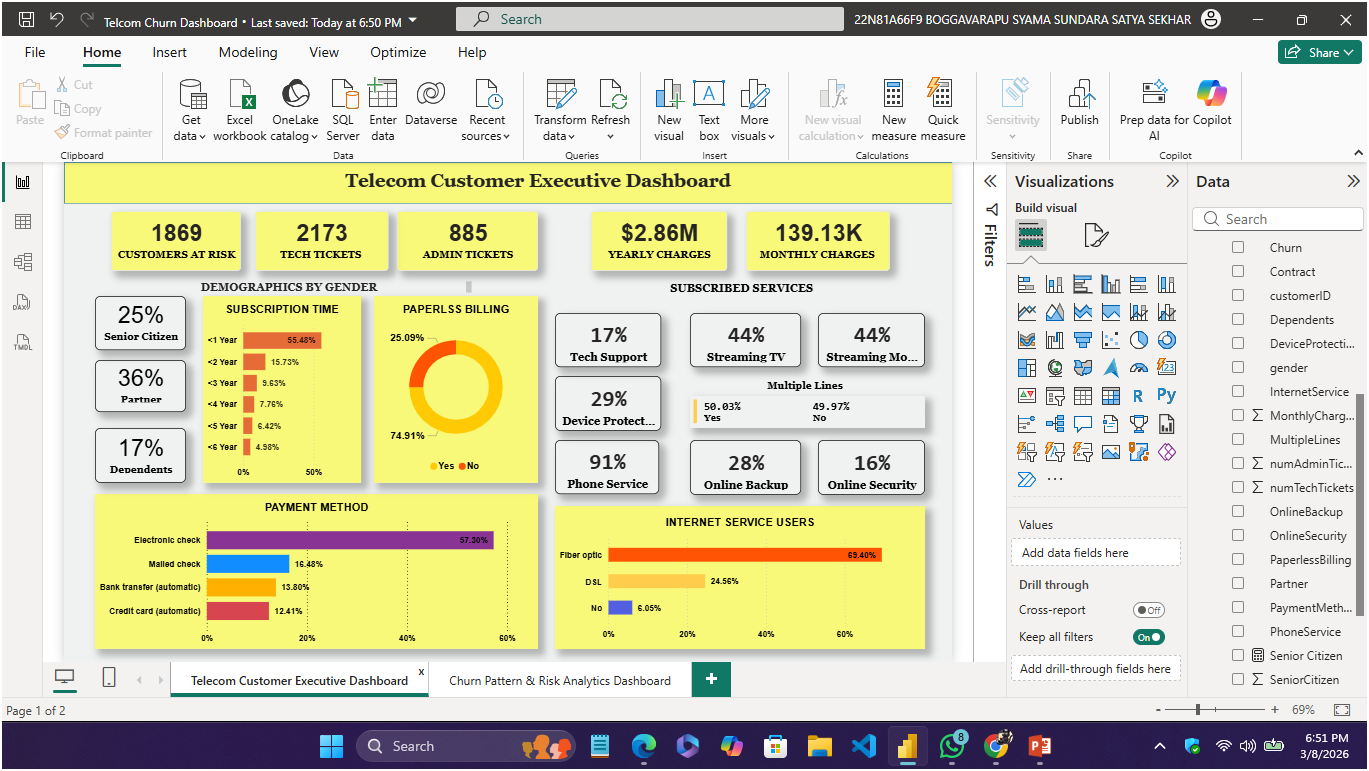

The dashboard page shown, as its layout file describes it:
{"tool":"powerbi","page":{"name":"Telecom Customer Executive Dashboard","canvas":[1280,720],"ordinal":0},"visuals":[{"type":"shape","box":[0,0,1280.2,60.5],"z":0},{"type":"card","fields":{"Values":["Churn.% Tech Support"]},"box":[707,217.4,152.6,77.8],"z":1000},{"type":"textbox","box":[707,157,522.7,47.5],"z":2000,"group":"g1"},{"type":"card","fields":{"Values":["Churn.% Streaming TV"]},"box":[901.4,217.4,159.8,77.8],"z":2000},{"type":"card","fields":{"Values":["CountNonNull(01 Churn-Dataset.customerID)"]},"box":[67.7,70.6,187.2,86.4],"z":3000},{"type":"textbox","box":[49,157,542.9,36],"z":4000},{"type":"card","fields":{"Values":["Churn.% Streaming Movies"]},"box":[1085.8,217.4,154.1,77.8],"z":6000},{"type":"card","fields":{"Values":["Churn.% of Senior Citizen"]},"box":[44.6,193,131,77.8],"z":7000},{"type":"card","fields":{"Values":["Churn.% Device Protection"]},"box":[707,308.2,152.6,79.2],"z":8000},{"type":"card","fields":{"Values":["Churn.% Phone Service"]},"box":[707,400.3,149.8,77.8],"z":9000},{"type":"card","fields":{"Values":["Sum(01 Churn-Dataset.numTechTickets)"]},"box":[275,70.6,191.5,86.4],"z":10000},{"type":"card","fields":{"Values":["Churn.% of partner"]},"box":[44.6,285.1,131,74.9],"z":11000},{"type":"card","fields":{"Values":["Churn.% Online Backup"]},"box":[901.4,400.3,159.8,79.2],"z":12000},{"type":"clusteredBarChart","title":"PAYMENT METHOD","fields":{"Y":["CountNonNull(Churn.PaymentMethod)"],"Category":["Churn.PaymentMethod"]},"box":[44.6,478.1,637.9,223.2],"z":13000},{"type":"card","fields":{"Values":["Churn.% Online Sec"]},"box":[1085.8,400.3,154.1,79.2],"z":14000},{"type":"card","fields":{"Values":["Sum(01 Churn-Dataset.TotalCharges)"]},"box":[758.9,70.6,195.8,86.4],"z":15000},{"type":"card","fields":{"Values":["Churn.% of Dependents"]},"box":[44.6,383,131,79.2],"z":16000},{"type":"card","fields":{"Values":["Sum(01 Churn-Dataset.numAdminTickets)"]},"box":[479.5,70.6,203,86.4],"z":17000},{"type":"clusteredBarChart","title":"SUBSCRIPTION TIME","fields":{"Y":["CountNonNull(Churn.Churn)"],"Category":["Churn.Tenure(in years)"]},"box":[200.2,193,227.5,269.3],"z":18000},{"type":"card","fields":{"Values":["Sum(01 Churn-Dataset.MonthlyCharges)"]},"box":[982.1,70.6,207.4,86.4],"z":19000},{"type":"donutChart","title":"PAPERLSS BILLING","fields":{"Category":["Churn.PaperlessBilling"],"Y":["CountNonNull(Churn.PaperlessBilling)"]},"box":[446.4,193,236.2,269.3],"z":20000},{"type":"group","id":"g1","title":"Group 2","box":[707,157,522.7,47.5],"z":23000},{"type":"textbox","box":[982.1,308.2,169.9,28.8],"z":25000},{"type":"multiRowCard","fields":{"Values":["Churn.% Yes-Multiple Lines","Churn.% No-Multiple Lines"]},"box":[901.4,337,338.4,46.1],"z":26000},{"type":"barChart","title":"INTERNET SERVICE USERS","fields":{"Y":["CountNonNull(Churn.InternetService)"],"Category":["Churn.InternetService"]},"box":[707,495.4,532.8,205.9],"z":27000},{"type":"textbox","box":[352.8,7.2,659.5,44.6],"z":28000}]}

Visuals, with their boxes on the page's 1280x720 design canvas (x1, y1, x2, y2). These are canvas units, not pixel positions in the 1369x771 screenshot, which may show the page scaled, cropped or inside an application window:
shape: {"x1": 0, "y1": 0, "x2": 1280, "y2": 60}
card - Churn.% Tech Support: {"x1": 707, "y1": 217, "x2": 860, "y2": 295}
textbox: {"x1": 707, "y1": 157, "x2": 1230, "y2": 204}
card - Churn.% Streaming TV: {"x1": 901, "y1": 217, "x2": 1061, "y2": 295}
card - CountNonNull(01 Churn-Dataset.customerID): {"x1": 68, "y1": 71, "x2": 255, "y2": 157}
textbox: {"x1": 49, "y1": 157, "x2": 592, "y2": 193}
card - Churn.% Streaming Movies: {"x1": 1086, "y1": 217, "x2": 1240, "y2": 295}
card - Churn.% of Senior Citizen: {"x1": 45, "y1": 193, "x2": 176, "y2": 271}
card - Churn.% Device Protection: {"x1": 707, "y1": 308, "x2": 860, "y2": 387}
card - Churn.% Phone Service: {"x1": 707, "y1": 400, "x2": 857, "y2": 478}
card - Sum(01 Churn-Dataset.numTechTickets): {"x1": 275, "y1": 71, "x2": 466, "y2": 157}
card - Churn.% of partner: {"x1": 45, "y1": 285, "x2": 176, "y2": 360}
card - Churn.% Online Backup: {"x1": 901, "y1": 400, "x2": 1061, "y2": 480}
"PAYMENT METHOD" clusteredBarChart: {"x1": 45, "y1": 478, "x2": 682, "y2": 701}
card - Churn.% Online Sec: {"x1": 1086, "y1": 400, "x2": 1240, "y2": 480}
card - Sum(01 Churn-Dataset.TotalCharges): {"x1": 759, "y1": 71, "x2": 955, "y2": 157}
card - Churn.% of Dependents: {"x1": 45, "y1": 383, "x2": 176, "y2": 462}
card - Sum(01 Churn-Dataset.numAdminTickets): {"x1": 480, "y1": 71, "x2": 682, "y2": 157}
"SUBSCRIPTION TIME" clusteredBarChart: {"x1": 200, "y1": 193, "x2": 428, "y2": 462}
card - Sum(01 Churn-Dataset.MonthlyCharges): {"x1": 982, "y1": 71, "x2": 1190, "y2": 157}
"PAPERLSS BILLING" donutChart: {"x1": 446, "y1": 193, "x2": 683, "y2": 462}
"Group 2" group: {"x1": 707, "y1": 157, "x2": 1230, "y2": 204}
textbox: {"x1": 982, "y1": 308, "x2": 1152, "y2": 337}
multiRowCard - Churn.% Yes-Multiple Lines x Churn.% No-Multiple Lines: {"x1": 901, "y1": 337, "x2": 1240, "y2": 383}
"INTERNET SERVICE USERS" barChart: {"x1": 707, "y1": 495, "x2": 1240, "y2": 701}
textbox: {"x1": 353, "y1": 7, "x2": 1012, "y2": 52}
